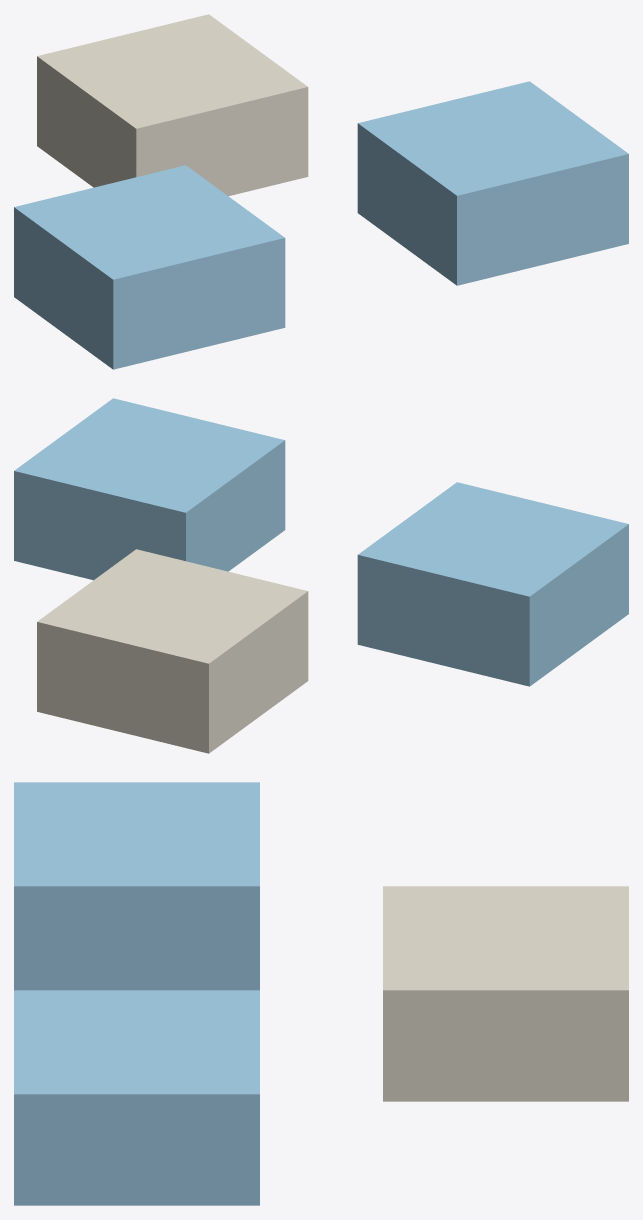
3 renders of one model, top to bottom at view 1: azimuth 30°, elevation 25°; view 2: azimuth 150°, elevation 25°; view 3: azimuth 270°, elevation 25°, orthographic. The views are drawn at different scales.
Parts seen in each view (by area): view 1: PrimaryPump, PumpInstanceA, BufferTank; view 2: PumpInstanceA, BufferTank, PrimaryPump; view 3: PrimaryPump, BufferTank, PumpInstanceA.
Boxes of the visible parts, left/top/right/bottom form: PrimaryPump: left=357, top=81, right=628, bottom=285; PumpInstanceA: left=14, top=165, right=285, bottom=369; BufferTank: left=37, top=14, right=308, bottom=196; PumpInstanceA: left=357, top=482, right=628, bottom=686; BufferTank: left=37, top=549, right=308, bottom=753; PrimaryPump: left=14, top=398, right=285, bottom=580; PrimaryPump: left=14, top=990, right=259, bottom=1205; BufferTank: left=383, top=886, right=628, bottom=1101; PumpInstanceA: left=14, top=782, right=259, bottom=990.
Bounding box in the file's own units: 6 × 1 × 5.
